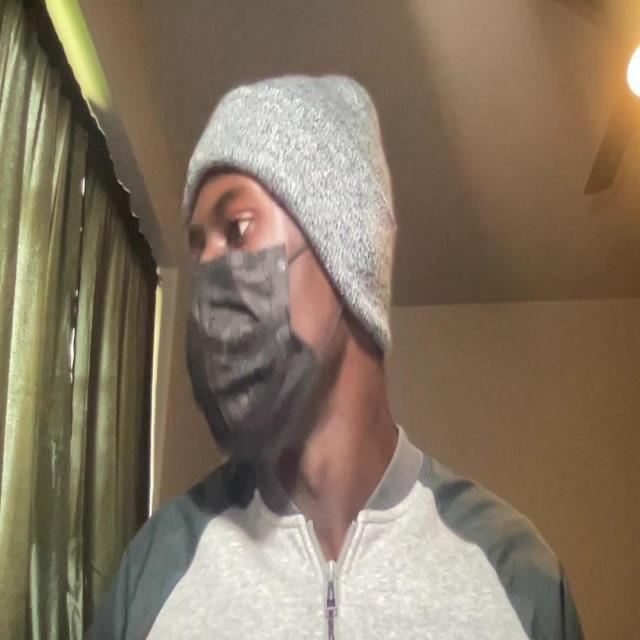face: (182, 130, 393, 477)
